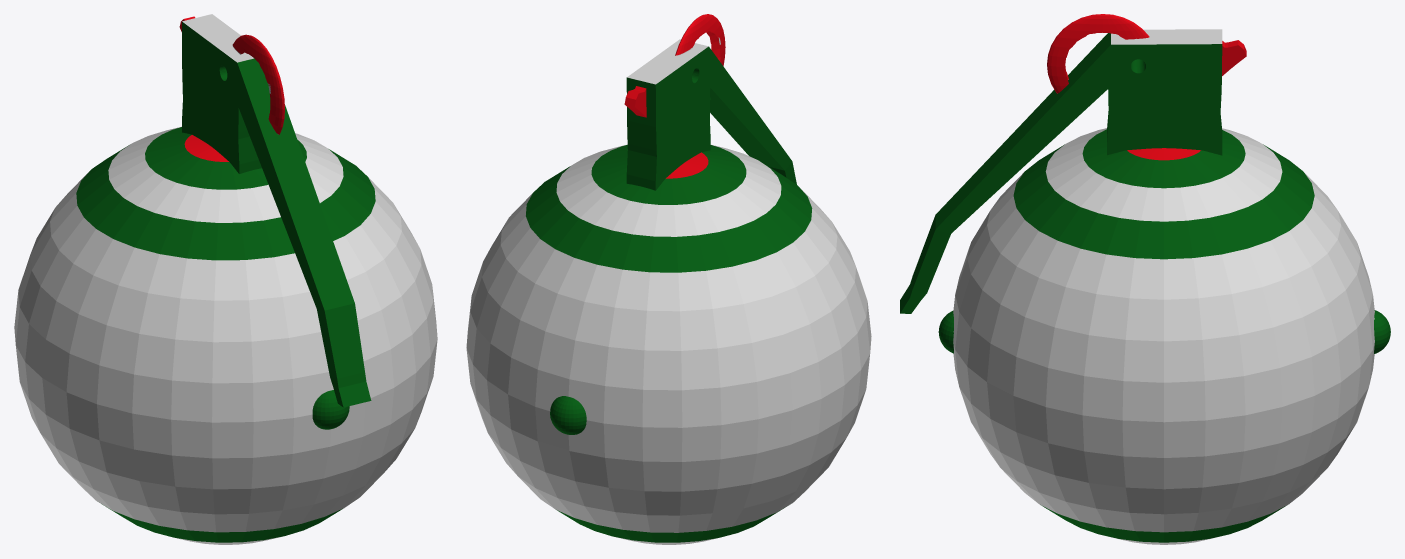
File: Grenade.fbx
3 views of the same model, side by side, from view 1: azimuth 30°, elevation 25°; view 2: azimuth 150°, elevation 25°; view 3: azimuth 270°, elevation 25° (orthographic). The views are drawn at different scales.
Visible parts, largest first — view 1: Sphere; view 2: Sphere; view 3: Sphere.
Part boxes in pixels (x1=…): Sphere: x1=14, y1=14, x2=437, y2=544; Sphere: x1=466, y1=14, x2=871, y2=544; Sphere: x1=900, y1=14, x2=1390, y2=544.
Bounding box in the file's own units: 146 × 193 × 168.
